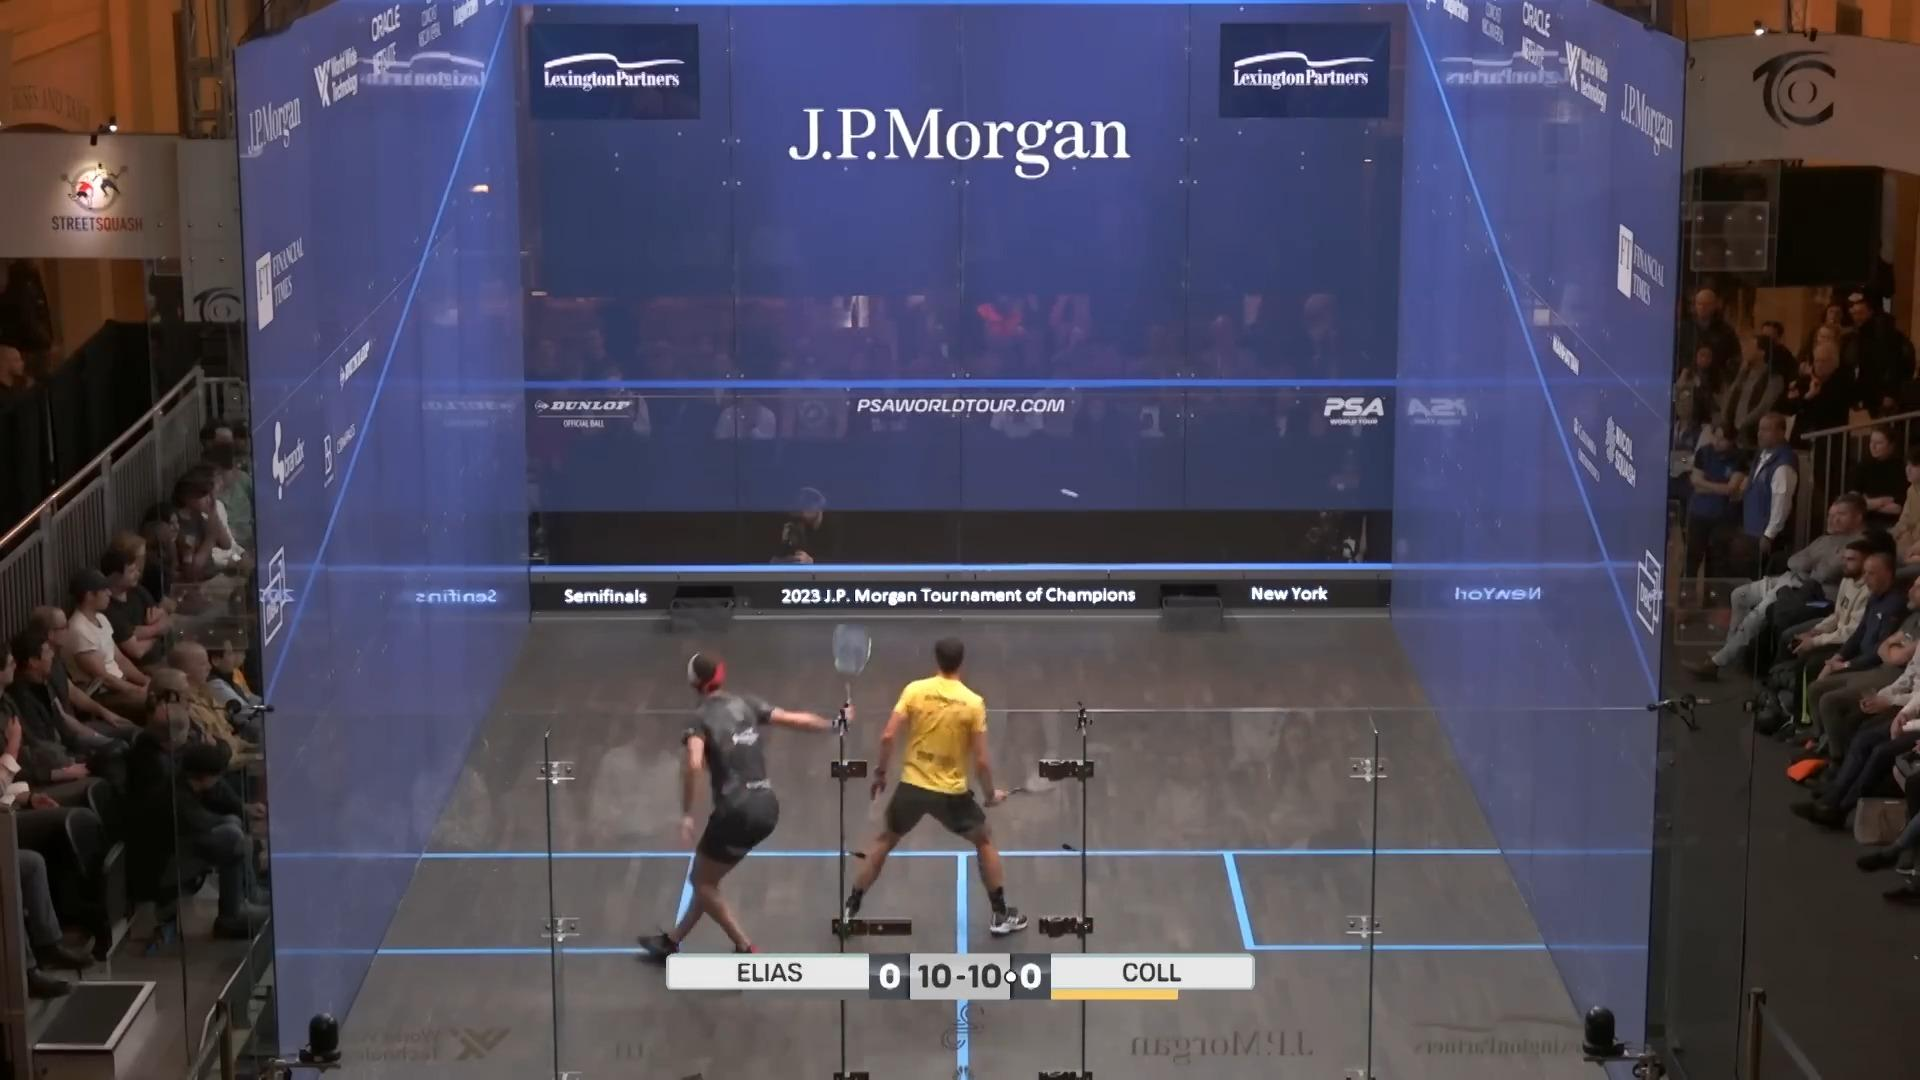Racket: (820, 611, 874, 721), (997, 762, 1063, 808)
